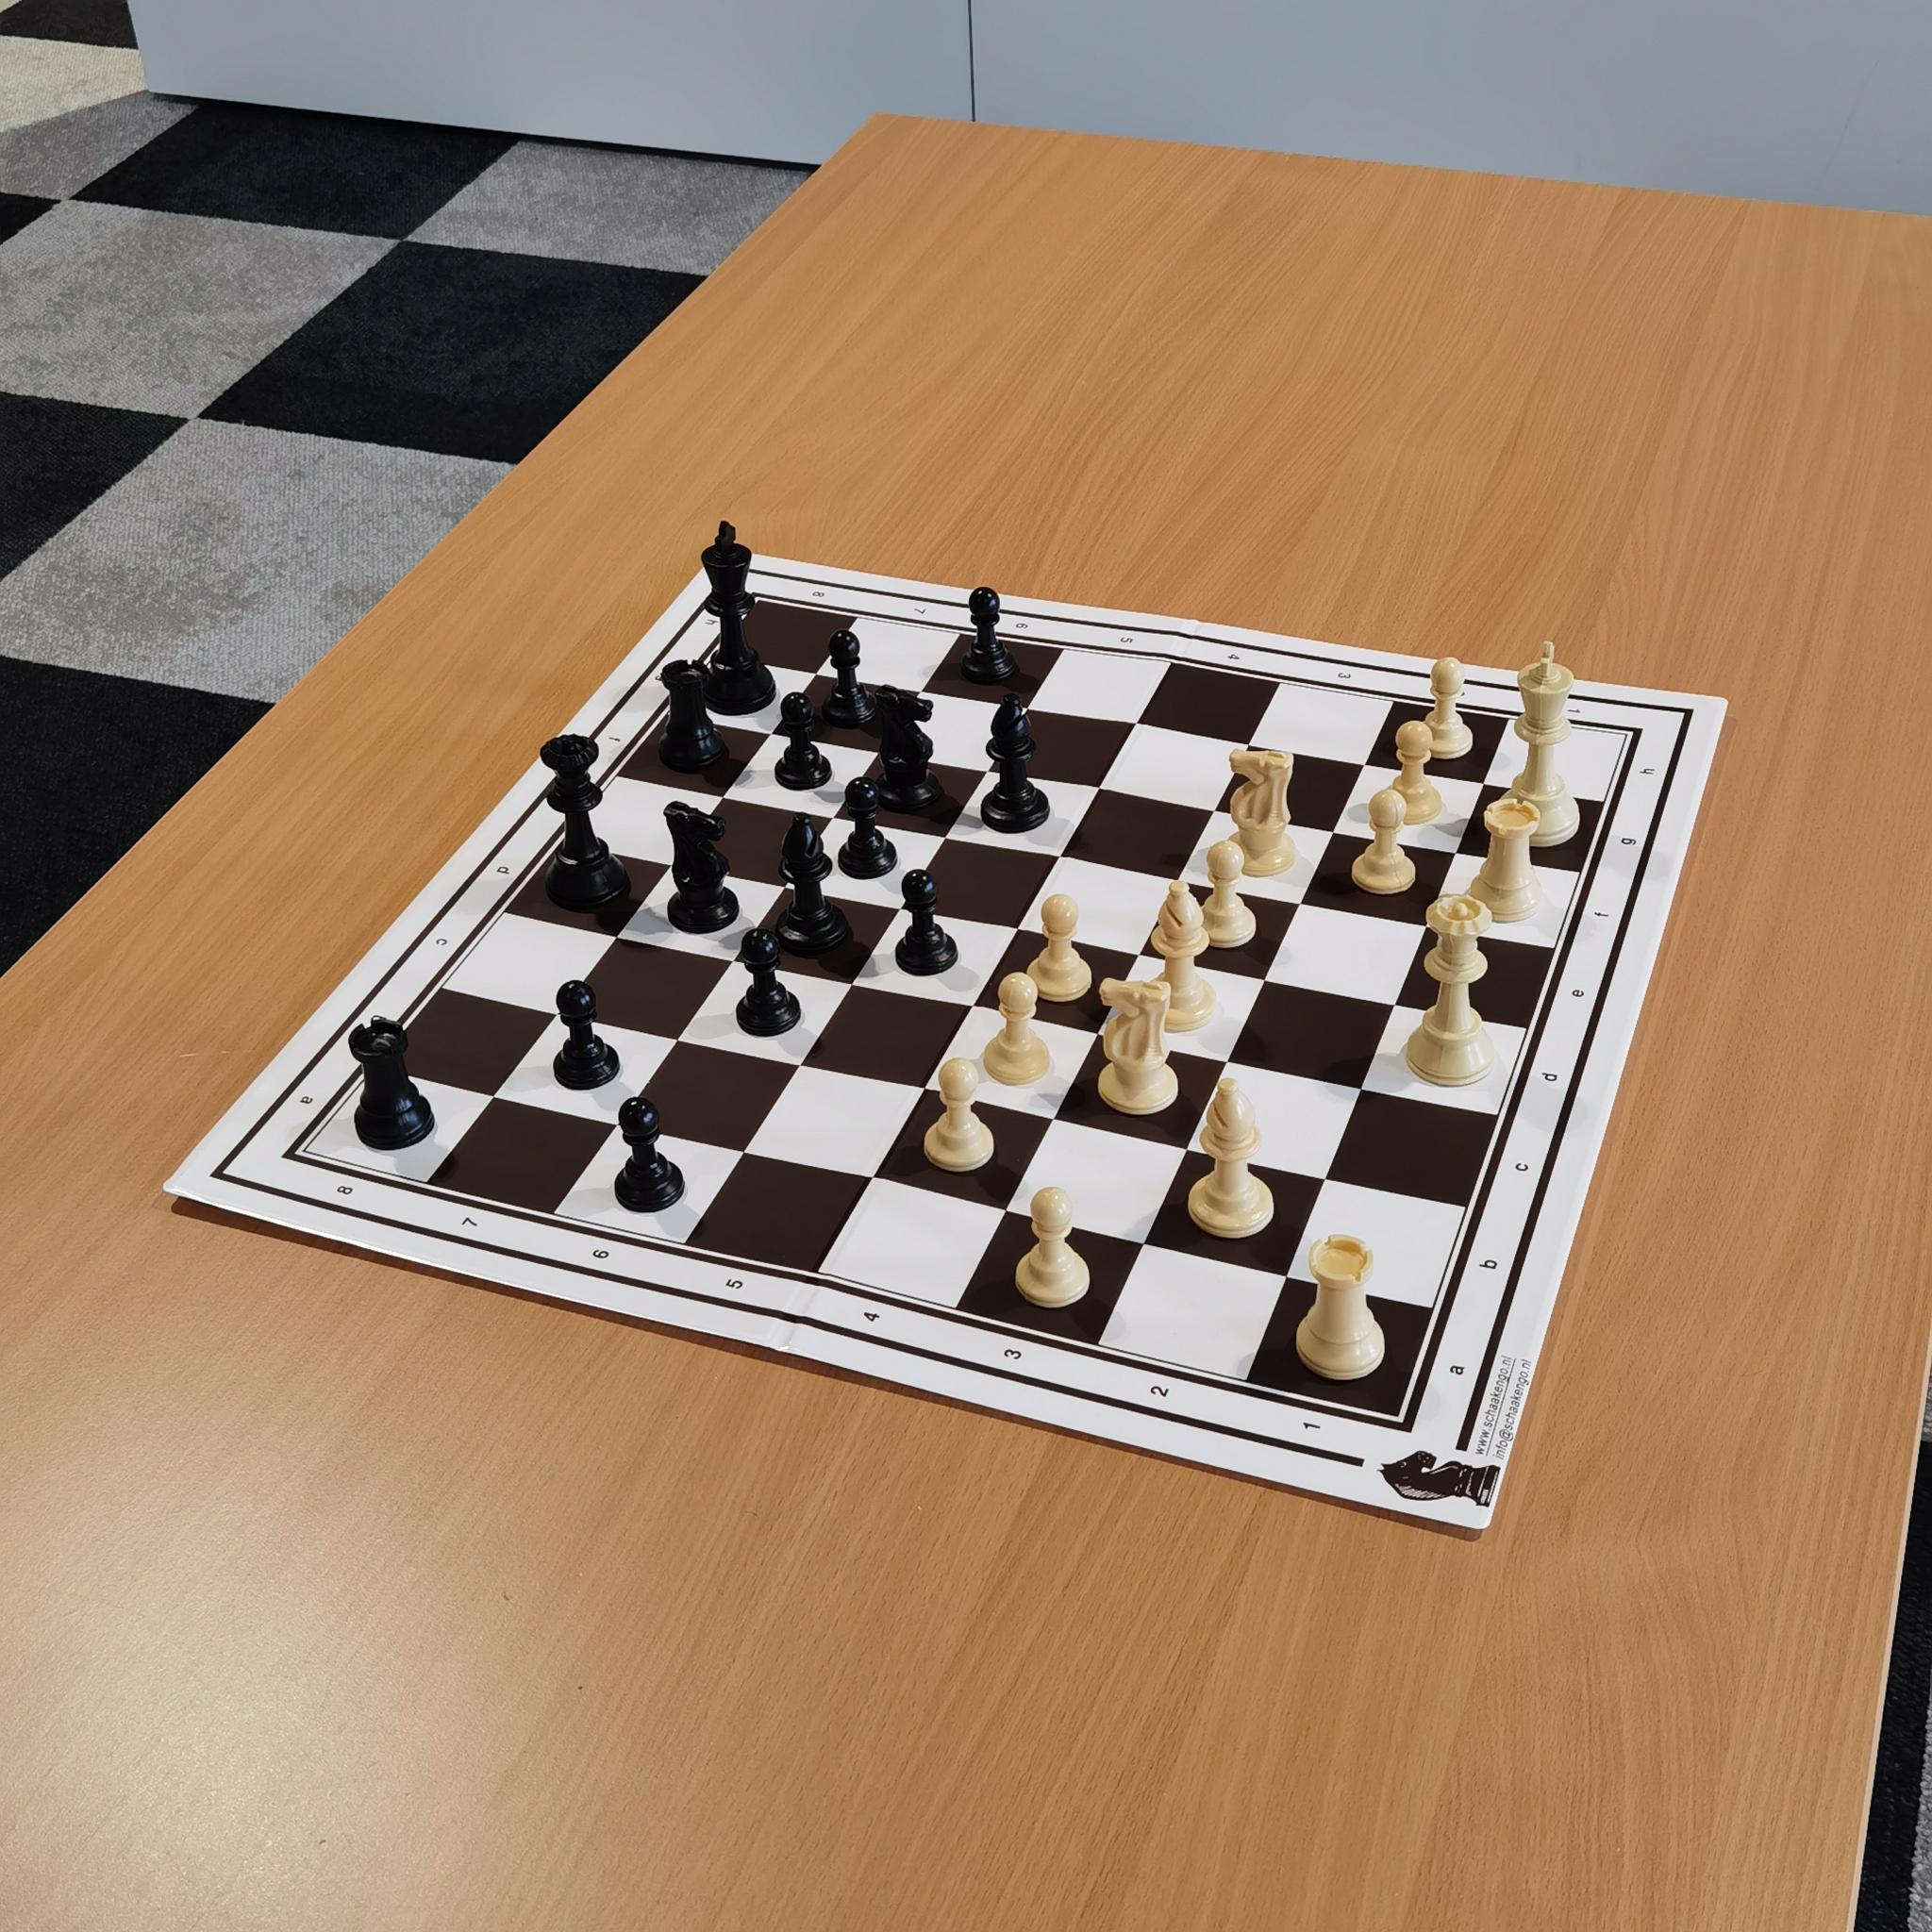corners: (267, 1138, 326, 1189), (1380, 1401, 1422, 1445), (1605, 722, 1652, 761), (738, 580, 778, 621)
eight: (801, 573, 839, 616), (331, 1171, 363, 1208)
one: (1290, 1403, 1343, 1445), (1557, 695, 1592, 720)
